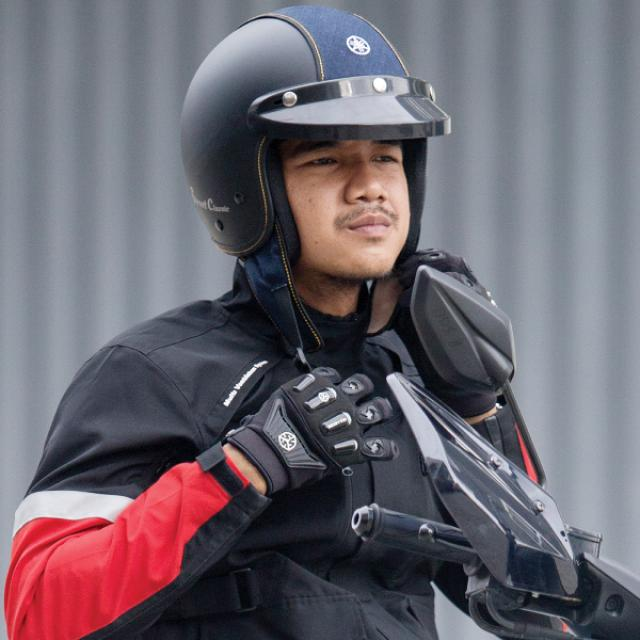Helm: (178, 4, 456, 302)
